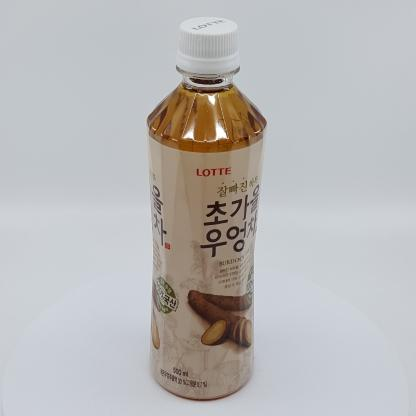----------500ML: (146, 17, 267, 399)
